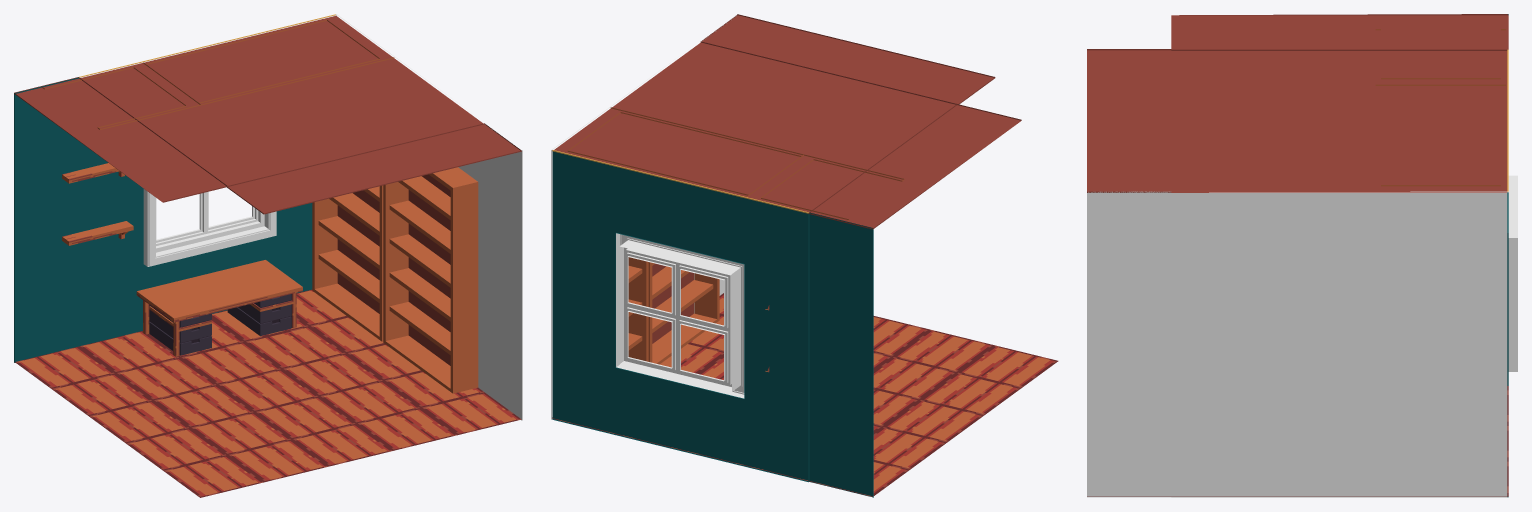
File: VoxelRoomBlend.glb
3 views of the same model, side by side, from view 1: azimuth 30°, elevation 25°; view 2: azimuth 150°, elevation 25°; view 3: azimuth 270°, elevation 25° (orthographic). The views are drawn at different scales.
Parts seen in each view (by area): view 1: VoxelRoom; view 2: VoxelRoom; view 3: VoxelRoom.
Boxes of the visible parts, box(x1,y1,x2,y2) form: VoxelRoom: box(14, 14, 522, 497); VoxelRoom: box(551, 14, 1058, 497); VoxelRoom: box(1087, 14, 1517, 497).
Bounding box in the file's own units: 3.2 × 2.56 × 3.27.
Materials: 1 (1 with a texture image).
